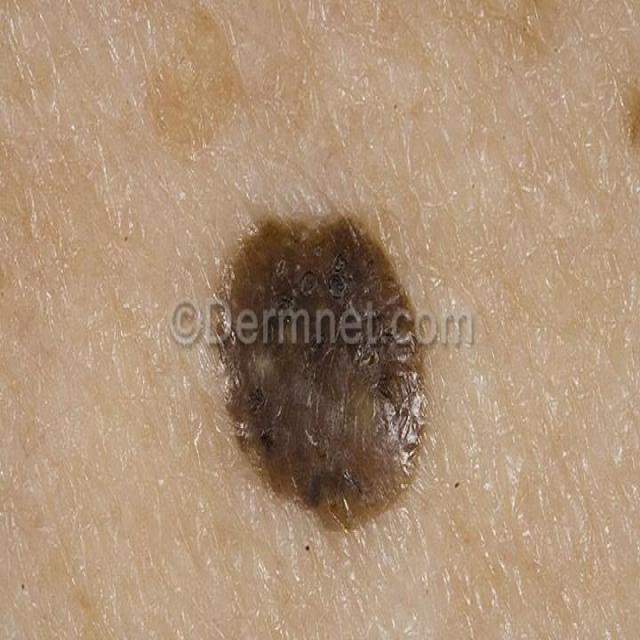Eczema: (186, 187, 460, 563)
